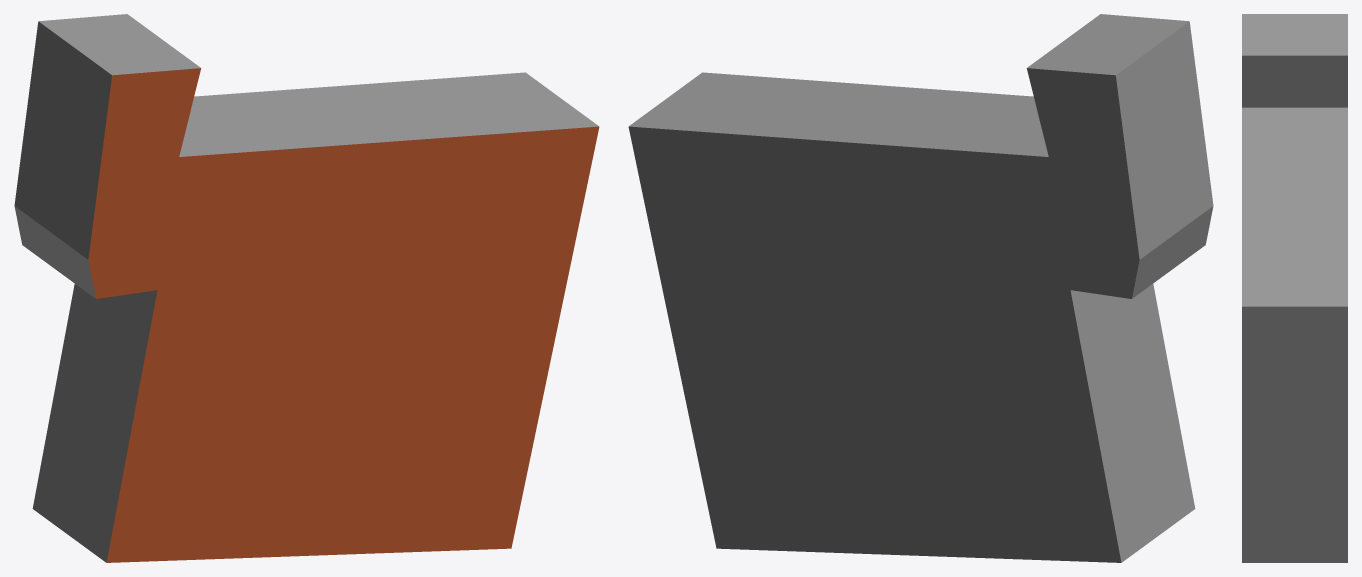
Rendered from construction_2563_assumed_A_Casa_h6m.obj.
3 views of the same model, side by side, from view 1: azimuth 30°, elevation 25°; view 2: azimuth 150°, elevation 25°; view 3: azimuth 270°, elevation 25° (orthographic). The views are drawn at different scales.
Visible parts, largest first — view 1: construction_2563_assumed_A_Casa; view 2: construction_2563_assumed_A_Casa; view 3: construction_2563_assumed_A_Casa.
Part boxes in pixels (x1,y1,x2,y2): construction_2563_assumed_A_Casa: (14,14,599,562); construction_2563_assumed_A_Casa: (628,14,1213,562); construction_2563_assumed_A_Casa: (1242,14,1347,562).
Size of the model in its own units: 23.96 by 25.57 by 6.
